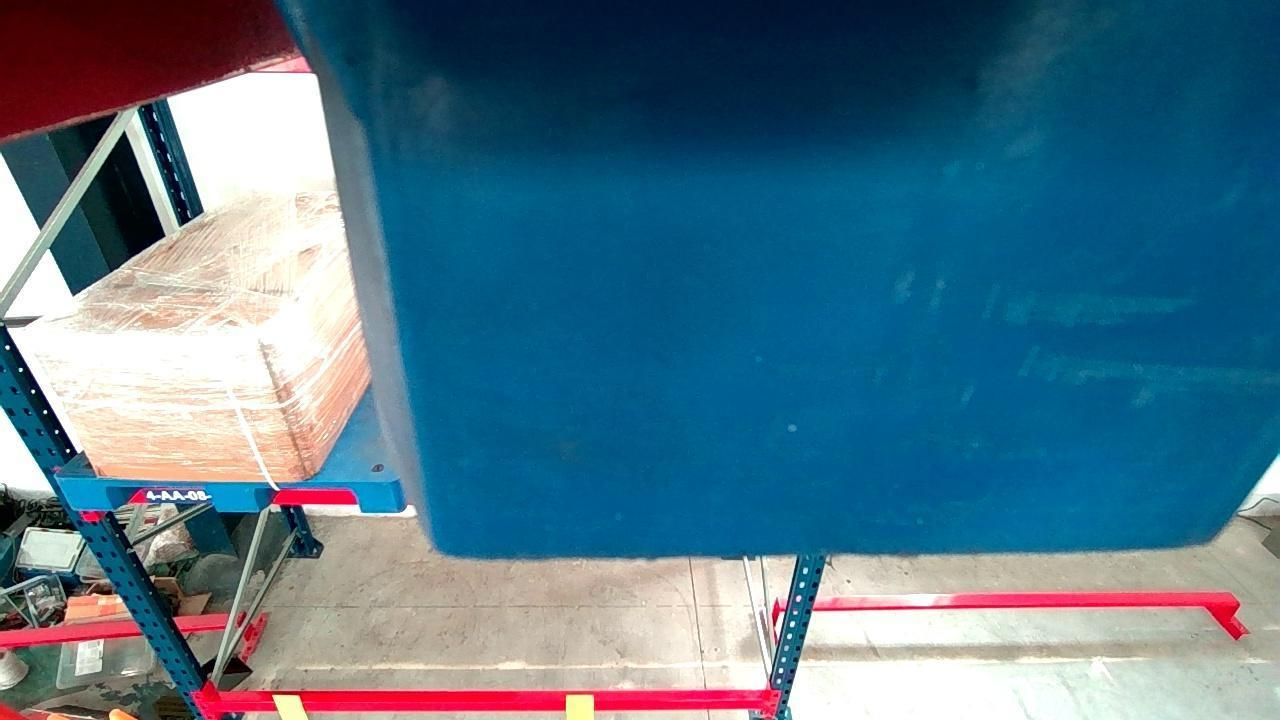h_rack: (204, 695, 767, 714), (132, 489, 404, 503)
orange_strip: (271, 694, 309, 720), (564, 690, 596, 720)
small_pallet: (57, 477, 401, 510)
